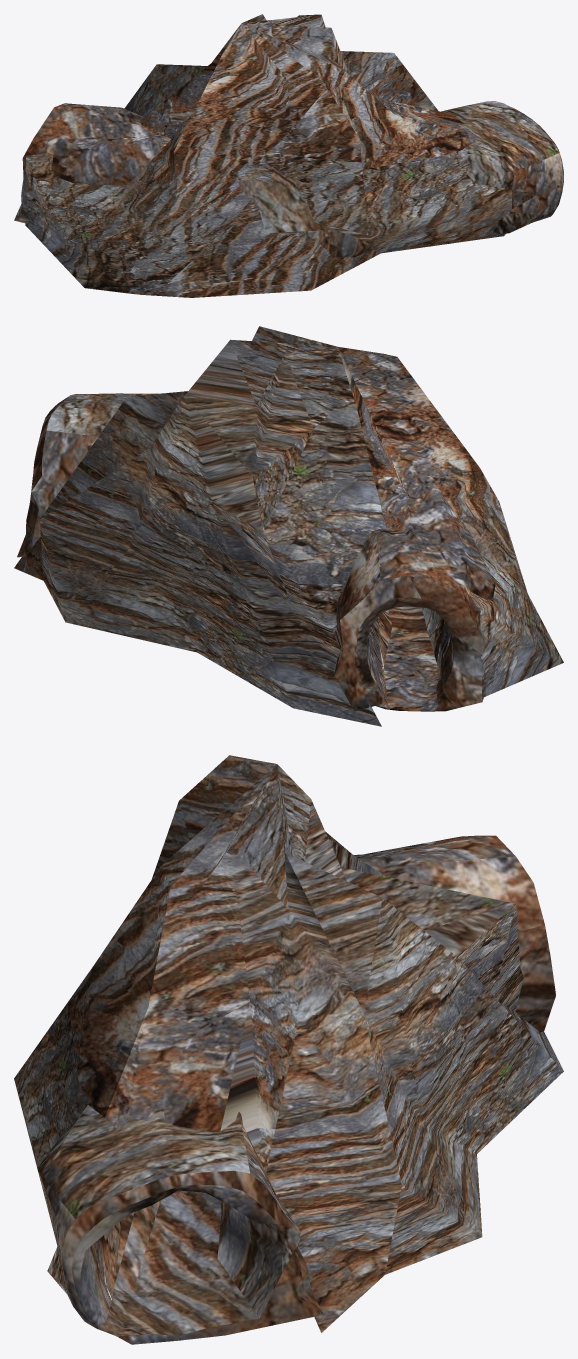
Rendered from CaveBase.fbx.
3 renders of one model, top to bottom at view 1: azimuth 30°, elevation 25°; view 2: azimuth 150°, elevation 25°; view 3: azimuth 270°, elevation 25°, orthographic. The views are drawn at different scales.
Visible parts, largest first — view 1: CaveMountain001; view 2: CaveMountain001; view 3: CaveMountain001.
Boxes of the visible parts, left/top/right/bottom form: CaveMountain001: left=14, top=14, right=563, bottom=297; CaveMountain001: left=14, top=326, right=563, bottom=726; CaveMountain001: left=14, top=755, right=563, bottom=1344.
Size of the model in its own units: 54.6 by 27.19 by 36.09.
